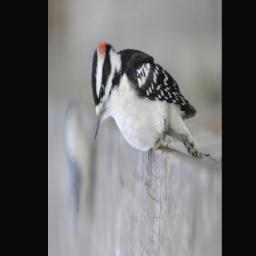Woodpecker: (85, 11, 211, 181)
